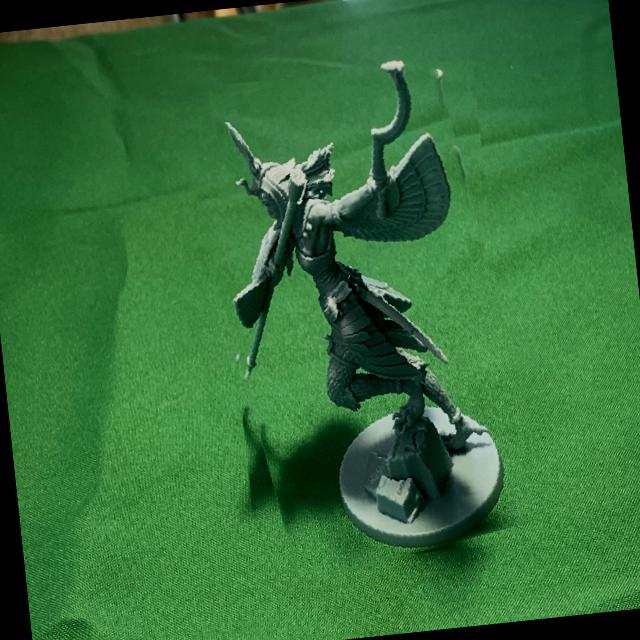isis: (188, 48, 542, 580)
